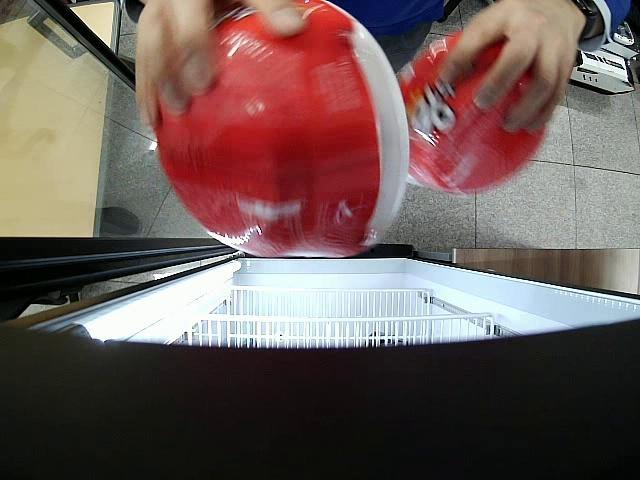10_wangTtukkeong: (153, 0, 411, 257), (396, 33, 550, 194)
